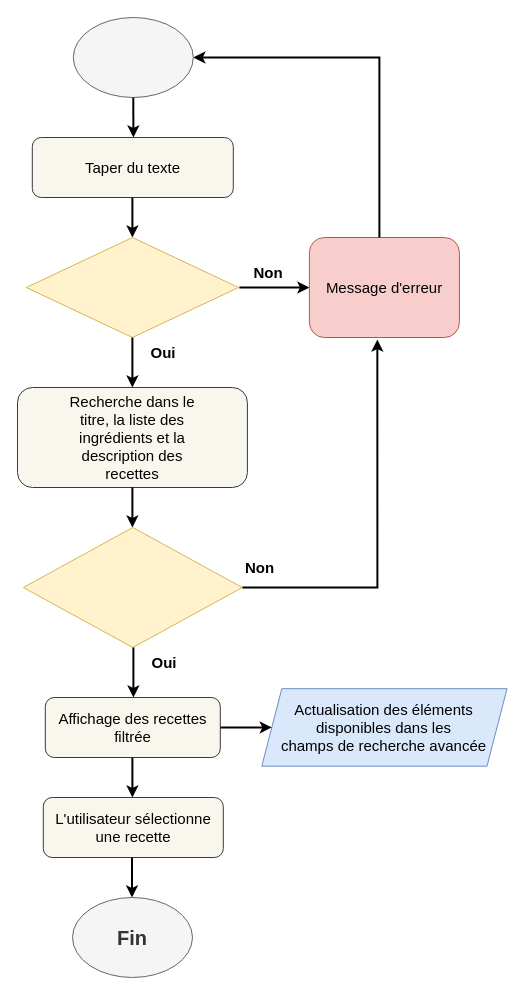
The diagram is 525 pixels wide and 995 high, and some of its shapes have lost their labels. The shapes that lost their labels are listed below. From the top down, each one's centre as x and y in pixels, then its label:
[132,57]: Début
[131,287]: Texte supérieur à 3 caractères
[132,587]: Correspondance de la recherche avec les recettes
